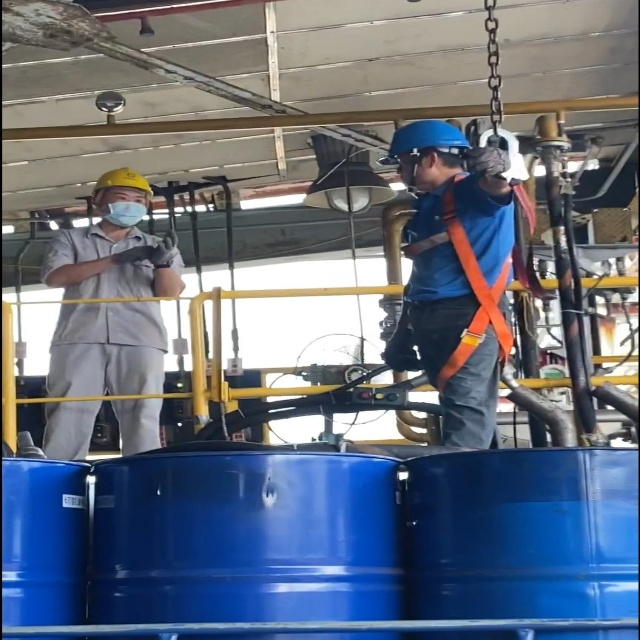Arnes_seguridad: (397, 181, 522, 400)
